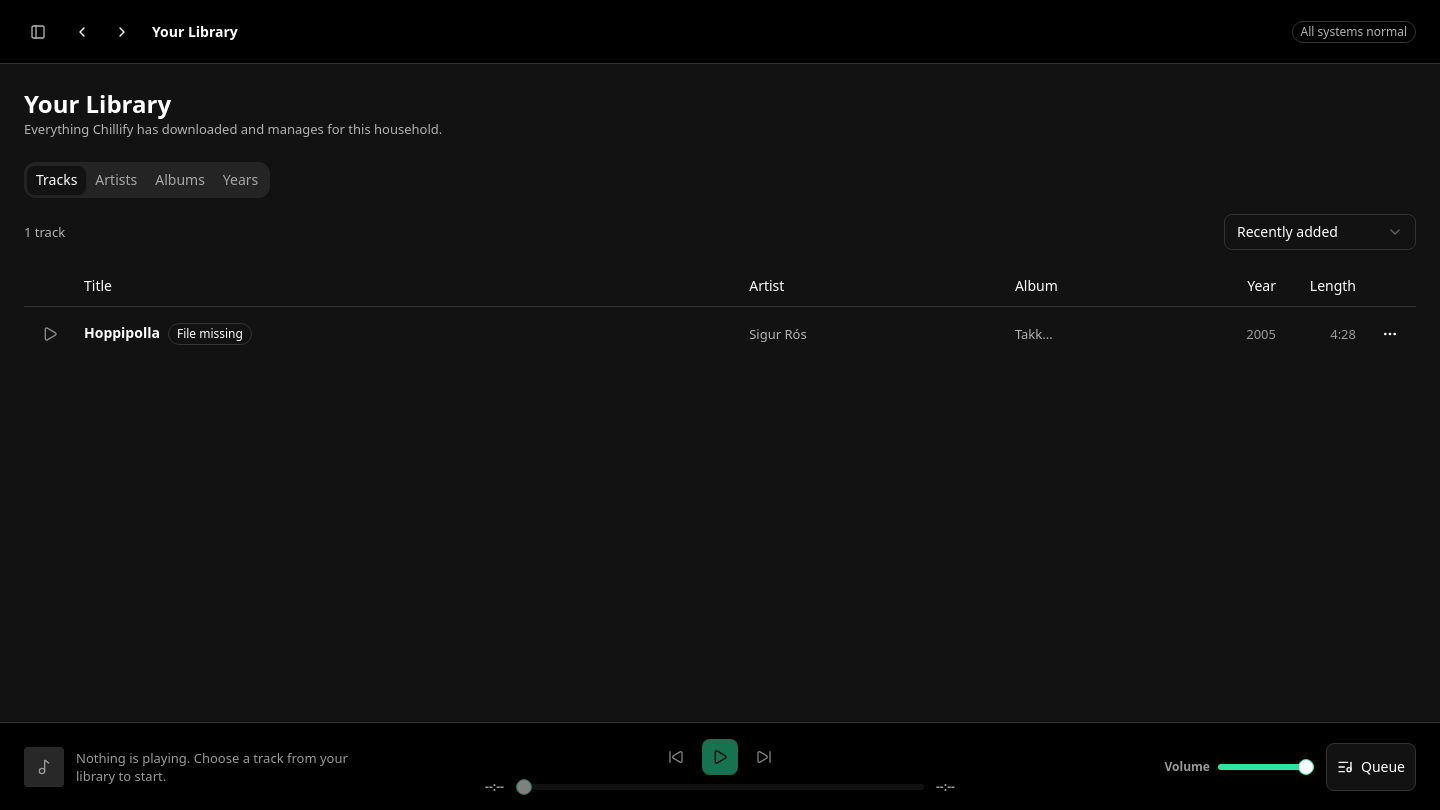
S13 track editor › disables tag mutation for a track whose file is missing
The width and height of the screenshot is (1440, 810).
Click the button named "actions for hoppipolla" at (1390, 334), box [1372,316,1408,352]
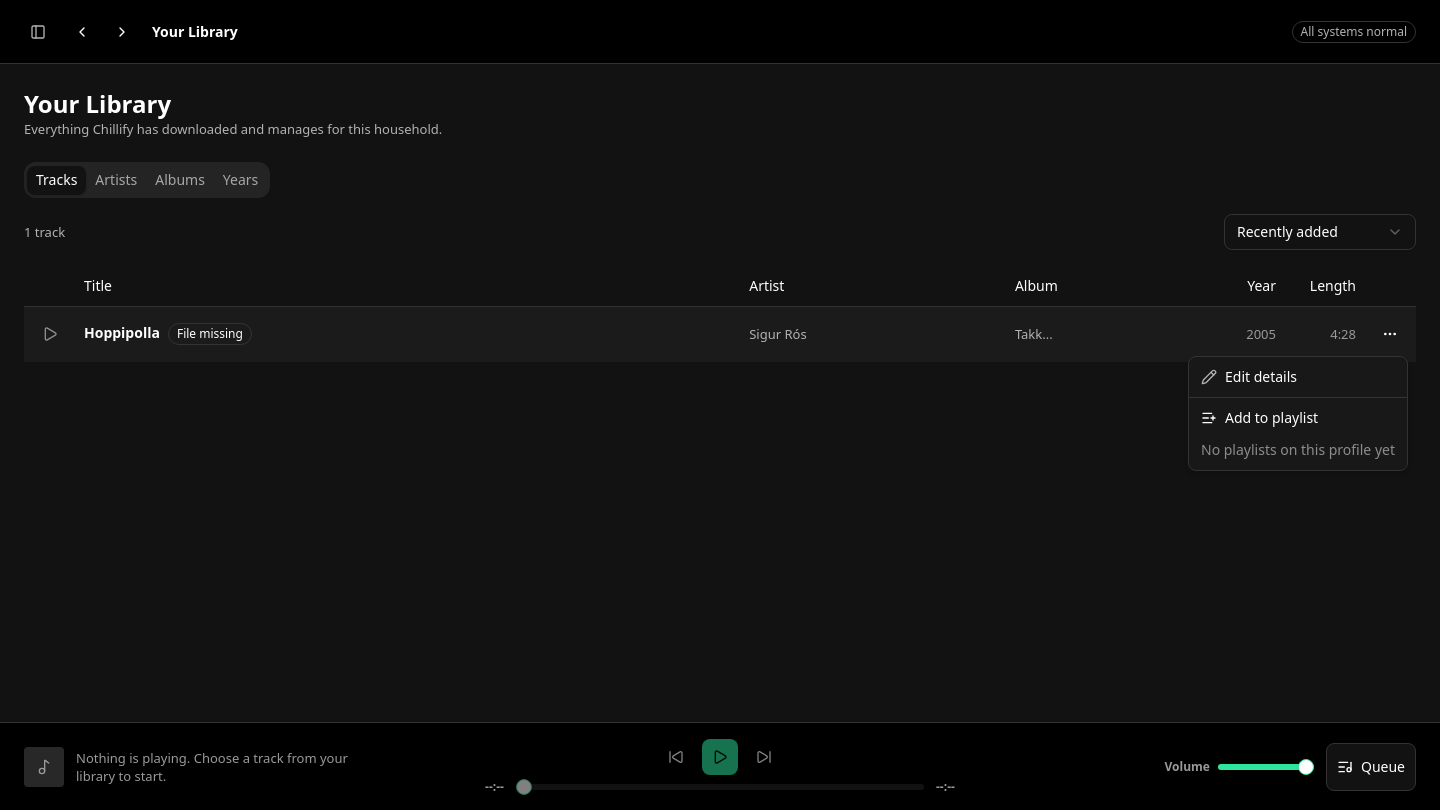
Click the menu item "Edit details" at (1249, 376), box [1201,367,1297,386]
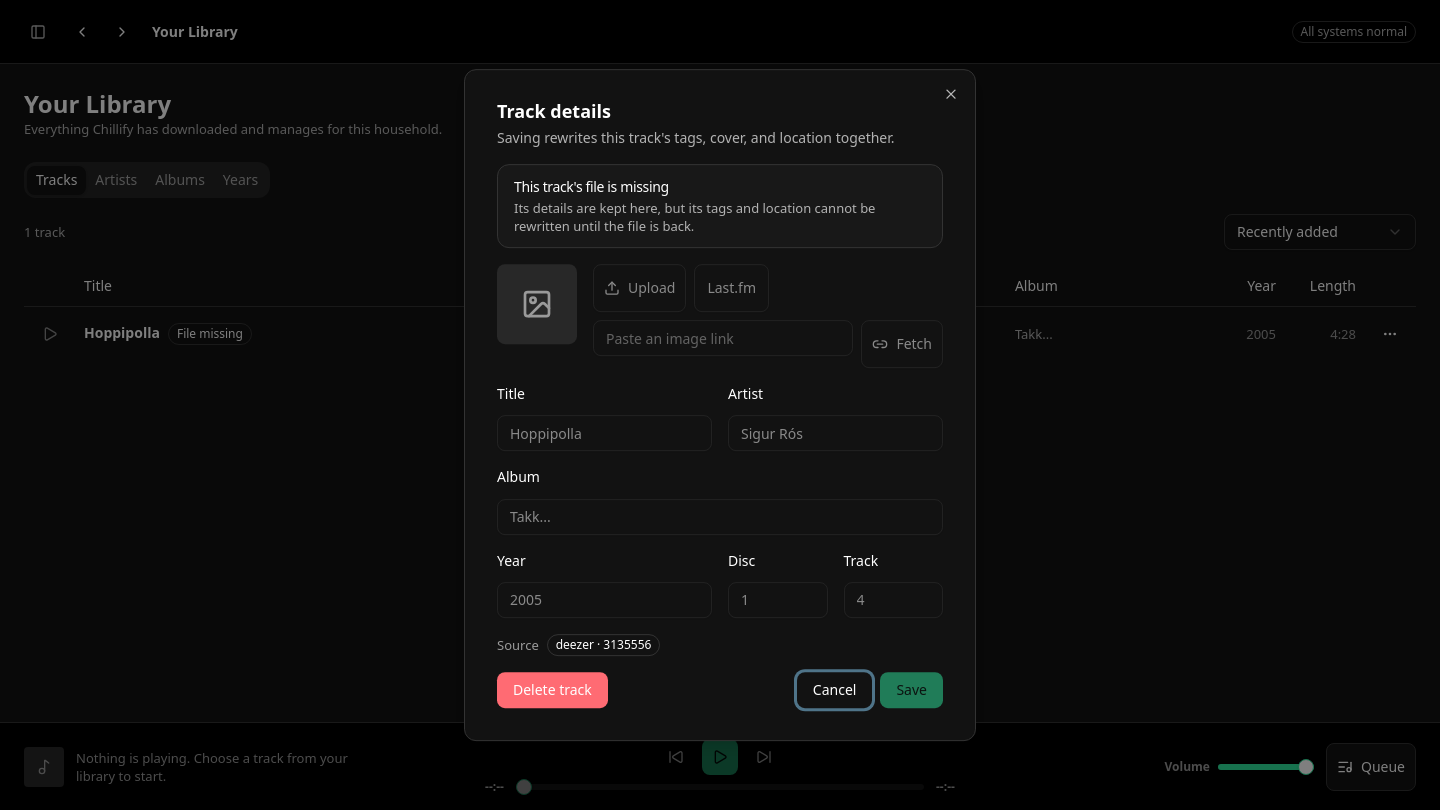
Check: the text "This track's file is missing" is shown, box [514,177,669,196]
Check: the field labelled "Title" is disabled, box [497,415,712,451]
Check: the button "Save" is disabled, box [880,672,943,708]
